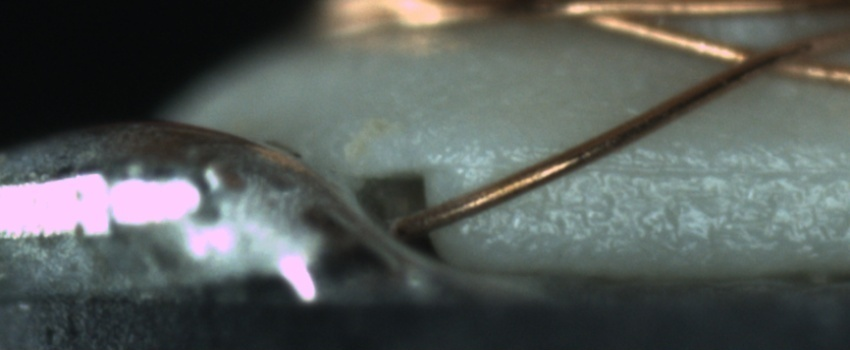CL: (700, 37, 826, 81)
DL: (549, 134, 849, 203)
